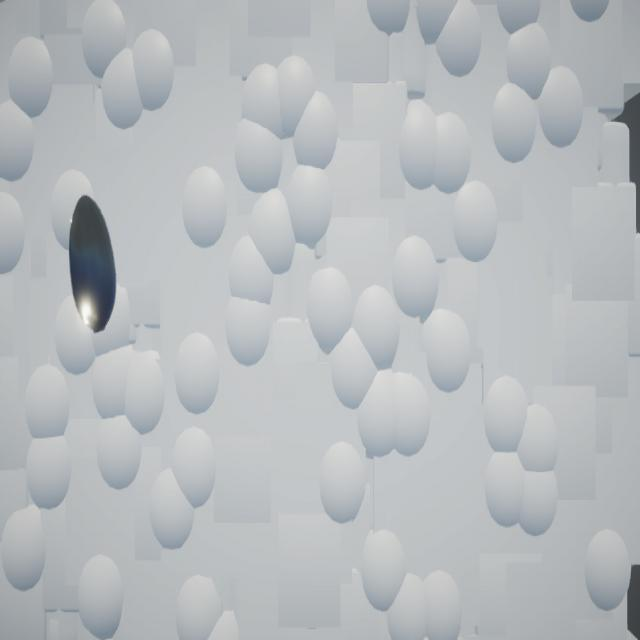top_spoon: (70, 196, 117, 336)
